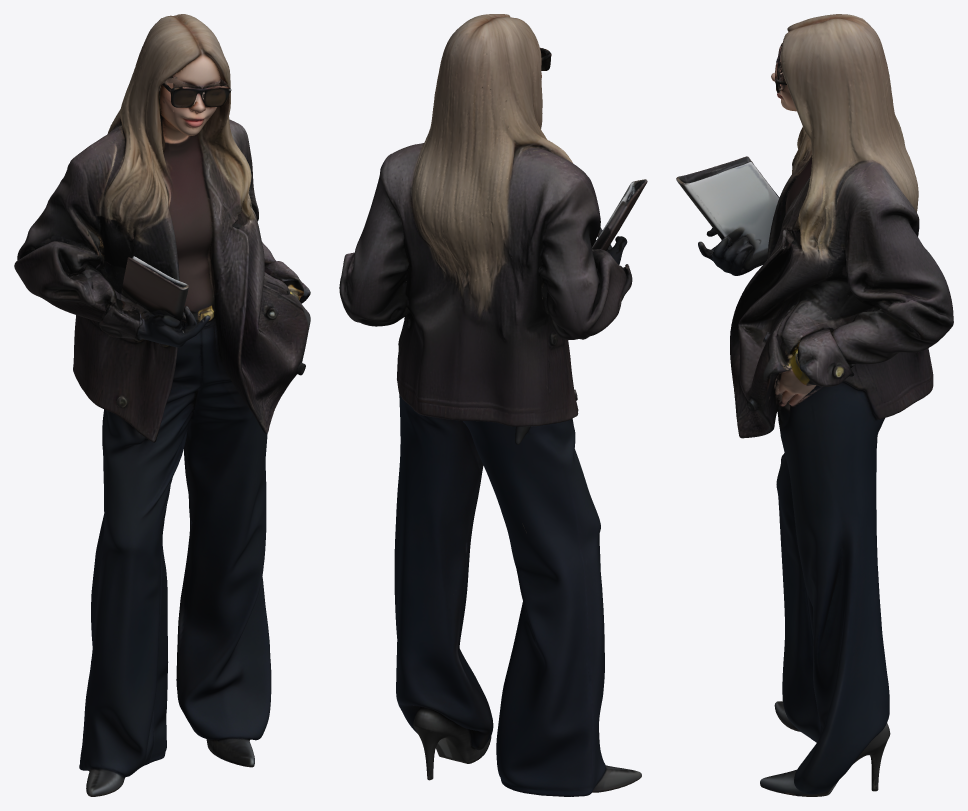
File: arenarubia.glb
3 views of the same model, side by side, from view 1: azimuth 30°, elevation 25°; view 2: azimuth 150°, elevation 25°; view 3: azimuth 270°, elevation 25° (orthographic). The views are drawn at different scales.
Parts seen in each view (by area): view 1: Mesh_0.001; view 2: Mesh_0.001; view 3: Mesh_0.001.
Boxes of the visible parts, <box> form: Mesh_0.001: <box>14,14,310,796</box>; Mesh_0.001: <box>339,14,647,796</box>; Mesh_0.001: <box>676,14,953,796</box>.
Bounding box in the file's own units: 0.6162 × 1.7 × 0.5665.
1 material, 1 textured.
